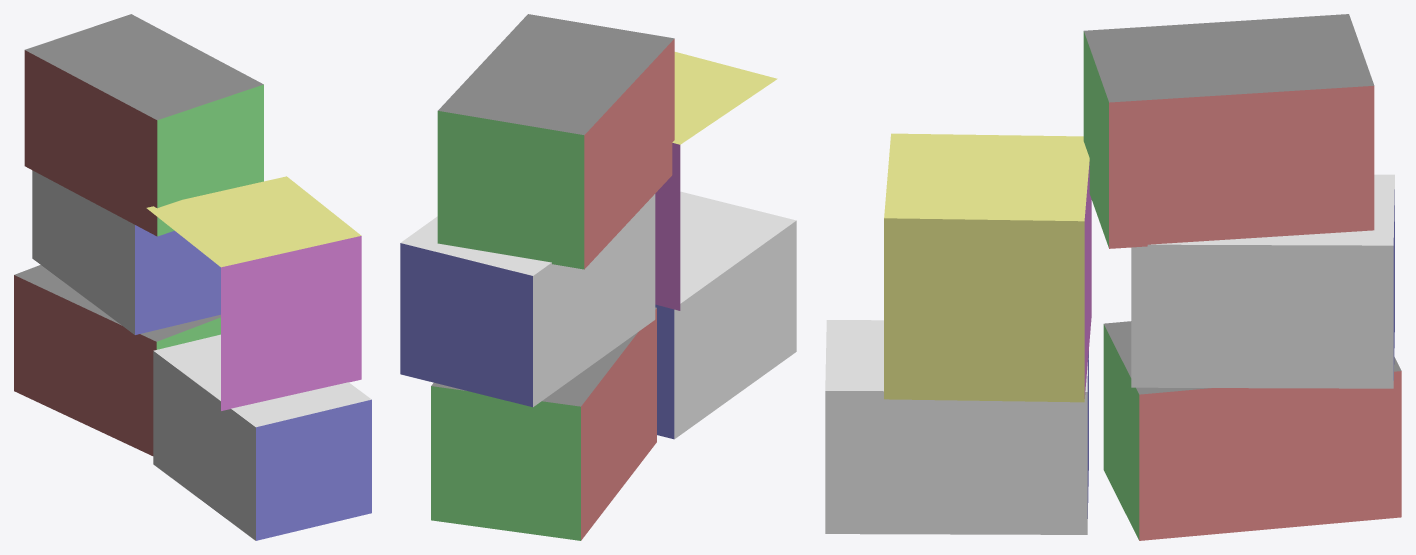
Rendered from interior_B_S__interior_B_313.gltf.
3 renders of one model, left to right at view 1: azimuth 30°, elevation 25°; view 2: azimuth 150°, elevation 25°; view 3: azimuth 270°, elevation 25°, orthographic. The views are drawn at different scales.
Visible parts, largest first — view 1: interior_B_313; view 2: interior_B_313; view 3: interior_B_313.
Part boxes in pixels (bbox=[...]): interior_B_313: bbox=[14, 14, 371, 540]; interior_B_313: bbox=[400, 14, 796, 540]; interior_B_313: bbox=[825, 14, 1401, 540].
Size of the model in its own units: 0.233 by 0.4777 by 0.574.
